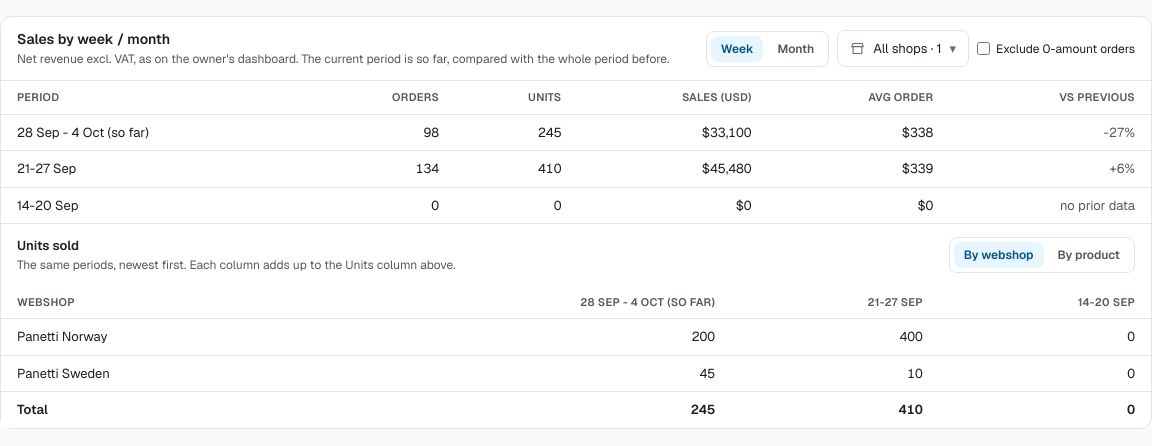
Test case: SalesByPeriod › breaks the units down by product when By product is chosen, without another request
Check: the table named "Units sold" is shown, box x1=1 y1=286 x2=1151 y2=428
What coordinates should you click on to do the following:
click the tab "By product"
I would click on:
 (1089, 255)
Its box is x1=1048 y1=242 x2=1130 y2=268.
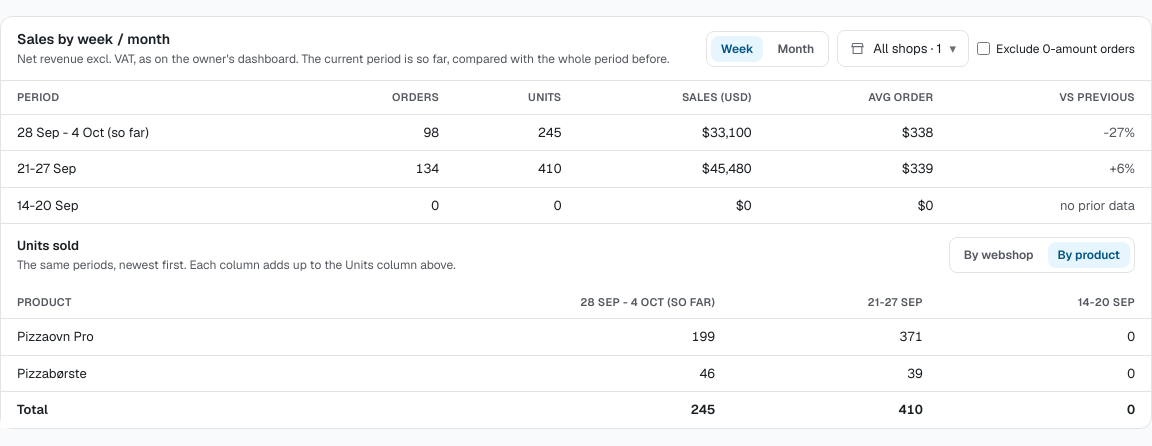
Check: the column heading "Product" is shown, box x1=1 y1=286 x2=334 y2=318
Check: the text "Panetti Norway" is gone
